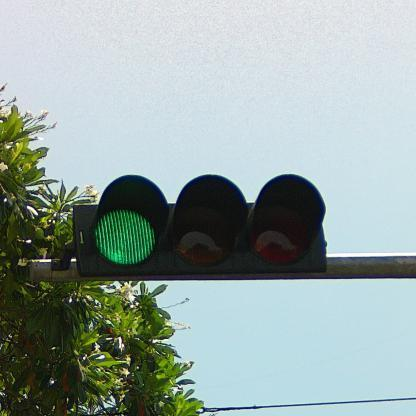green: (79, 175, 330, 278)
